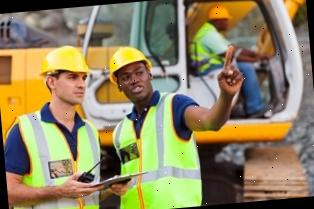helmet: (104, 42, 152, 84), (34, 45, 91, 78), (205, 2, 232, 22)
wear: (109, 99, 203, 209), (2, 112, 107, 209), (187, 29, 232, 70)
